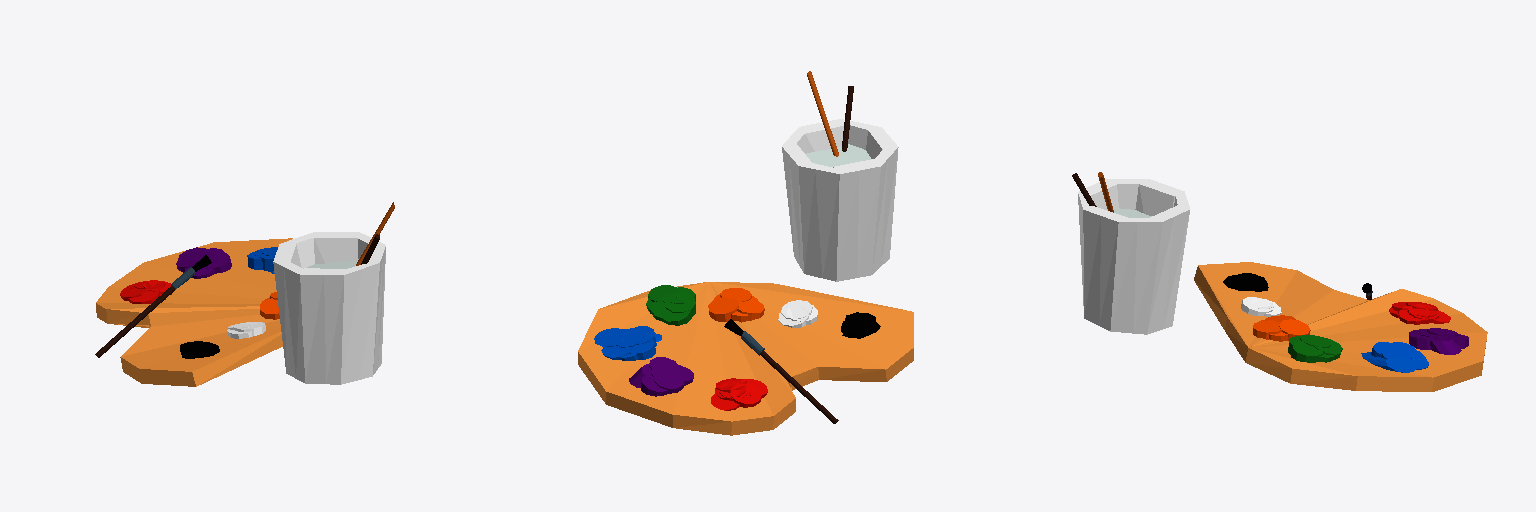
3 views of the same model, side by side, from view 1: azimuth 30°, elevation 25°; view 2: azimuth 150°, elevation 25°; view 3: azimuth 270°, elevation 25° (orthographic).
Visible parts, largest first — view 1: group[number redacted], group[number redacted], group[number redacted]; view 2: group[number redacted], group[number redacted], group[number redacted], group[number redacted], group[number redacted], group[number redacted]; view 3: group[number redacted], group[number redacted], group[number redacted].
Boxes of the visible parts, box(x1,y1,x2,y2) form: group[number redacted]: box(96, 238, 292, 386); group[number redacted]: box(273, 232, 385, 384); group[number redacted]: box(95, 286, 174, 357); group[number redacted]: box(578, 282, 913, 435); group[number redacted]: box(782, 119, 898, 281); group[number redacted]: box(806, 144, 870, 166); group[number redacted]: box(760, 350, 838, 423); group[number redacted]: box(708, 297, 738, 321); group[number redacted]: box(654, 369, 683, 393); group[number redacted]: box(1194, 262, 1487, 391); group[number redacted]: box(1078, 179, 1189, 334); group[number redacted]: box(1361, 352, 1415, 372).
Size of the model in its own units: 0.0943 by 0.0738 by 0.1291.